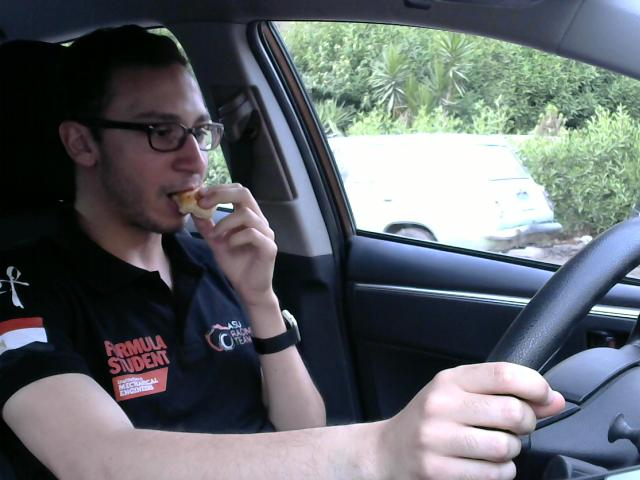Eating: (162, 176, 227, 222)
